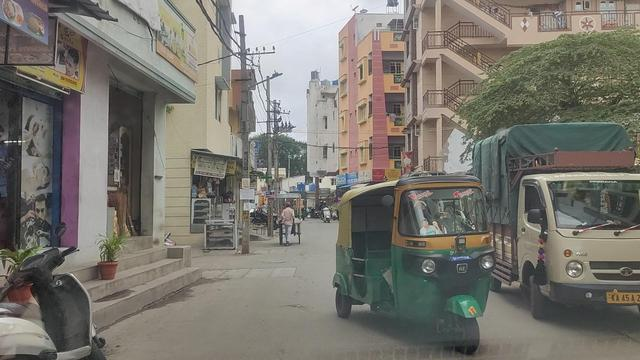HMV: (457, 132, 640, 303)
LMV: (340, 184, 500, 354)
RoadDamages: (209, 261, 295, 280)
